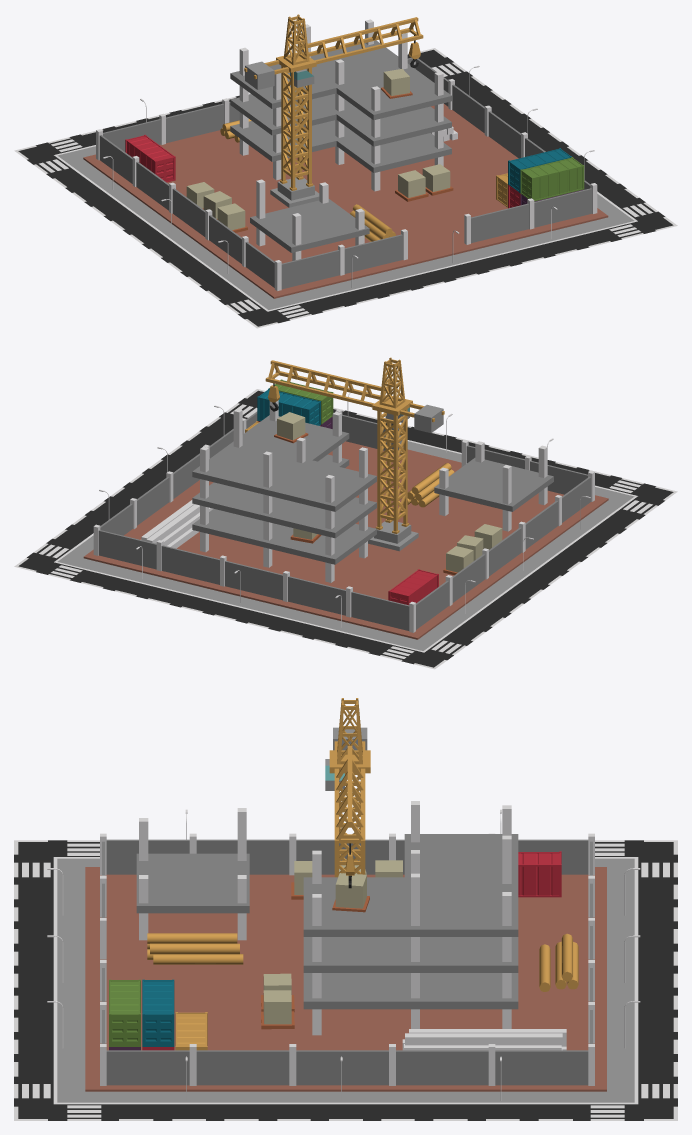
The model's file is ConstructionArea_PowerUp.fbx.
3 views of the same model, one above another, from view 1: azimuth 30°, elevation 25°; view 2: azimuth 150°, elevation 25°; view 3: azimuth 270°, elevation 25° (orthographic). The views are drawn at different scales.
Parts seen in each view (by area): view 1: ConstructionArea_PowerUp; view 2: ConstructionArea_PowerUp; view 3: ConstructionArea_PowerUp.
Part boxes in pixels (left/top/right/bottom): ConstructionArea_PowerUp: left=14, top=14, right=677, bottom=328; ConstructionArea_PowerUp: left=14, top=357, right=677, bottom=669; ConstructionArea_PowerUp: left=14, top=698, right=677, bottom=1120.
Size of the model in its own units: 1000 by 416 by 1000.
1 material, 1 textured.
